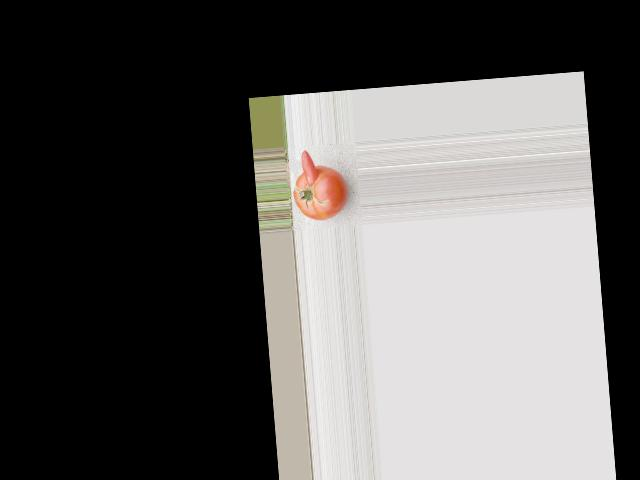tomato: (291, 163, 349, 223)
